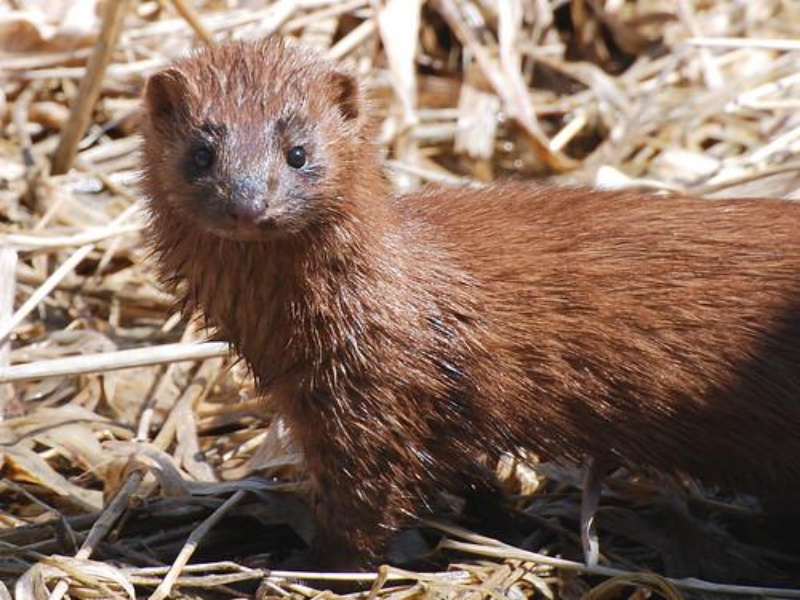minkish: (141, 35, 796, 565)
